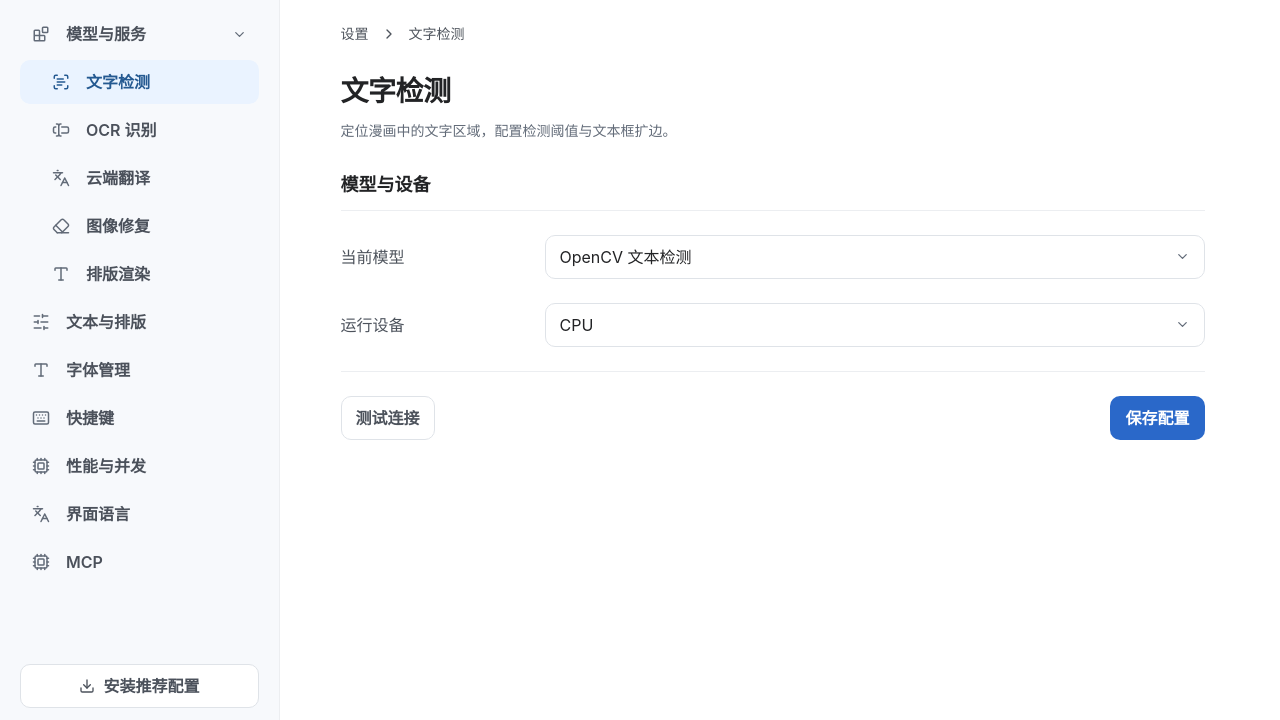
Test: service connection tests › tests ocr using current settings without saving
Click the button "OCR 识别" at (140,130), box [20,108,259,152]
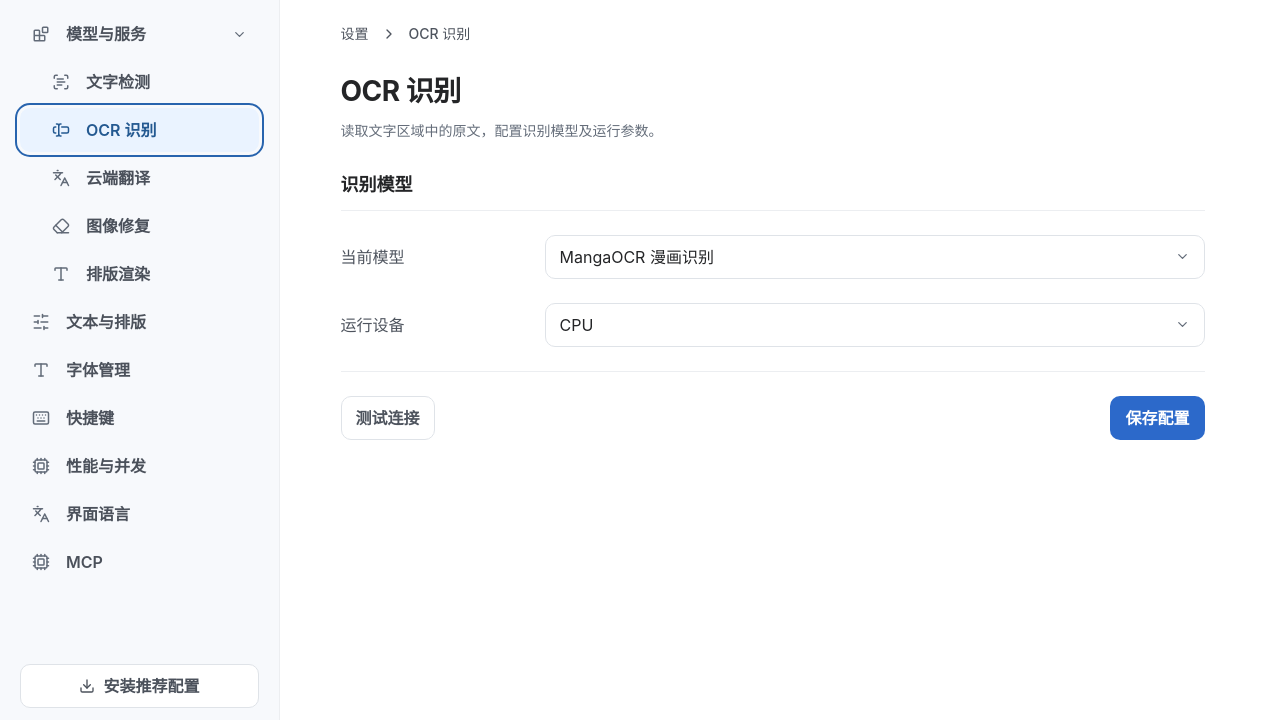
Click the button "测试连接" at (388,418), box [340,396,434,440]
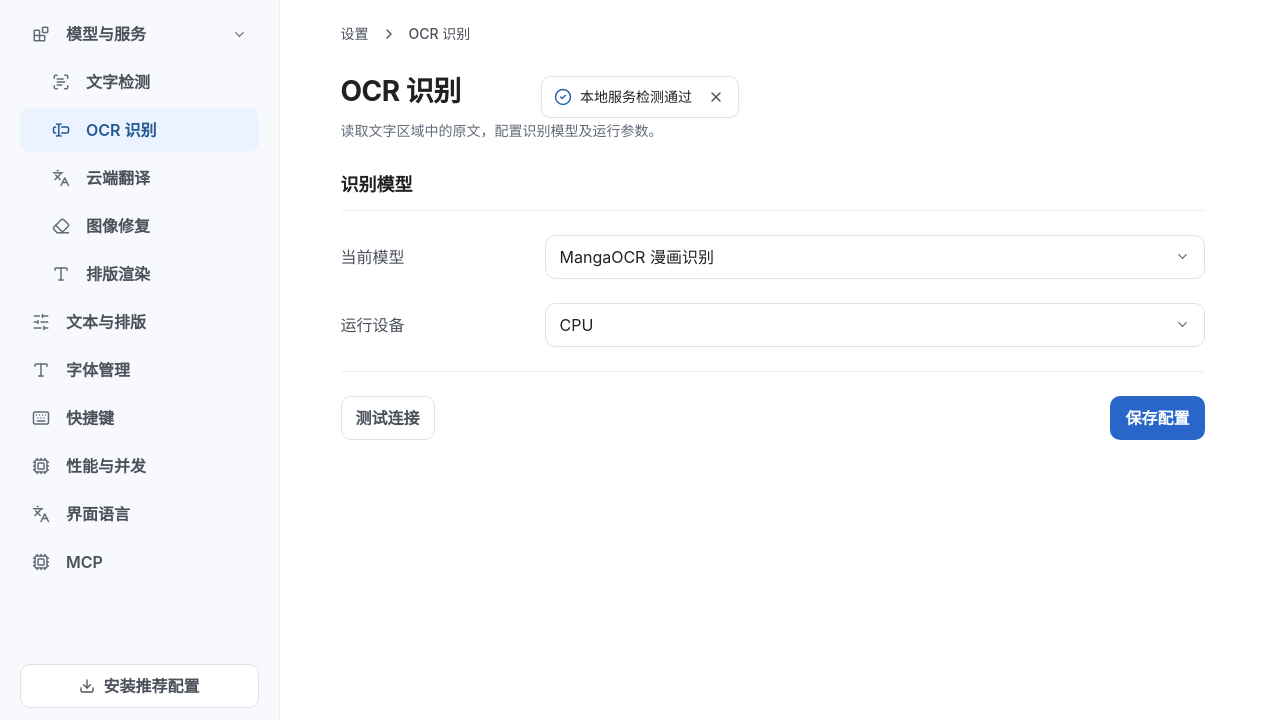
Now the text "本地服务检测通过" is shown, box [580,83,692,111]
Now the message named "测试连接" reads "本地服务检测通过", box [580,88,692,105]
Click the button named "关闭提示" at (716,97), box [700,81,732,113]
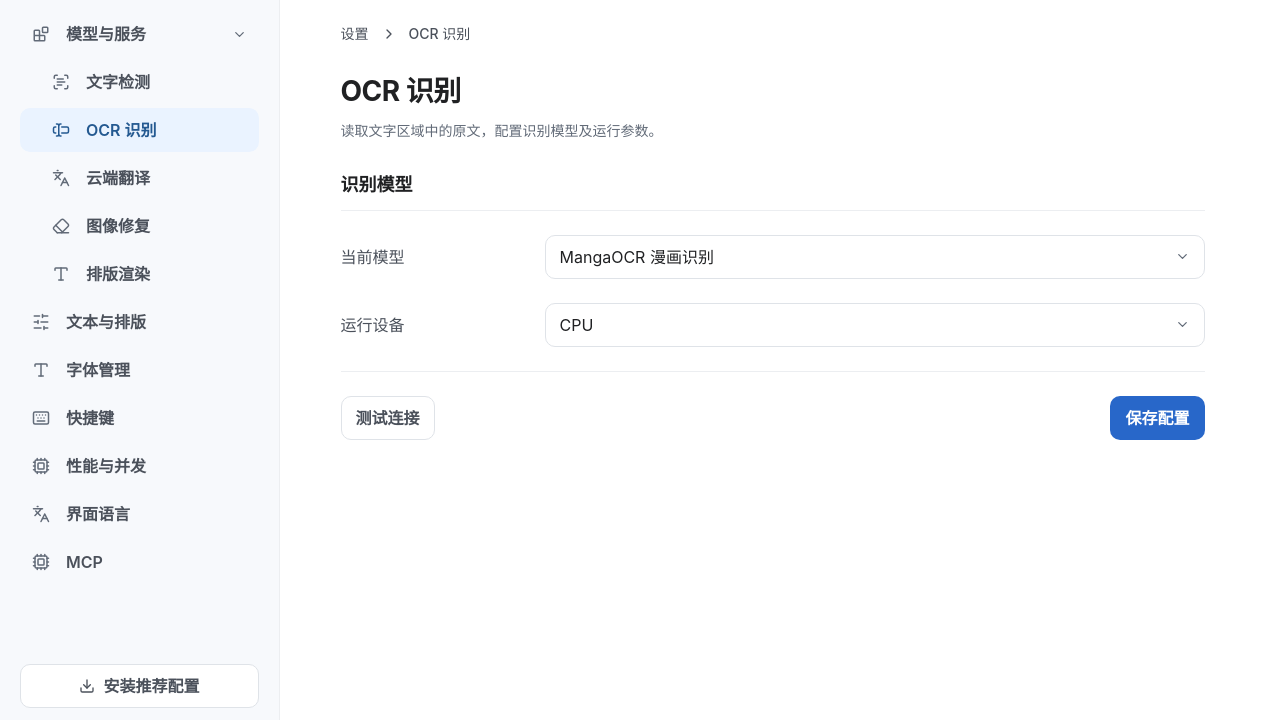
Now the text "本地服务检测通过" is gone
